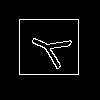Y: (25, 25, 81, 75)
